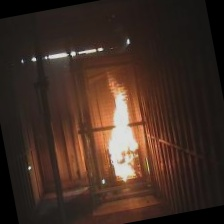fire: (91, 72, 150, 182)
